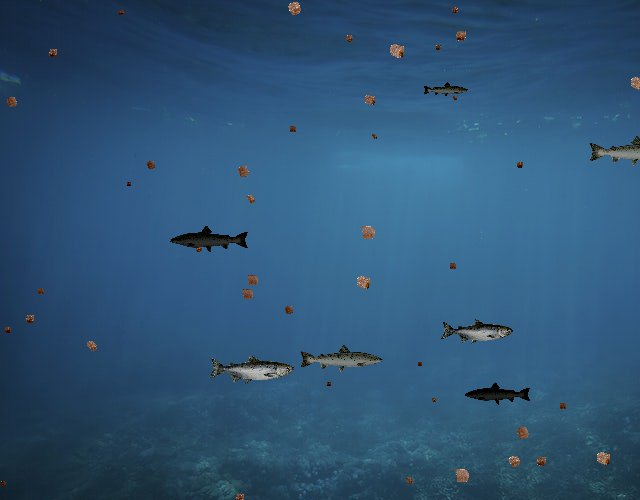Fish: (298, 343, 384, 374), (208, 354, 294, 385), (169, 224, 250, 254), (440, 319, 513, 345), (587, 135, 640, 168), (464, 381, 532, 406), (422, 82, 469, 99)
Pellet: (510, 420, 536, 446), (502, 449, 527, 474), (80, 335, 102, 357), (512, 158, 526, 172), (432, 41, 445, 54), (115, 7, 127, 19)
